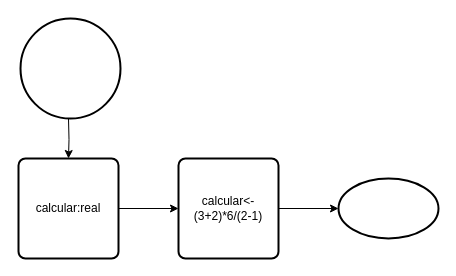
Image size: 456x276. Some labels were removed from this diagram. The box of each missing label's shape, as (x1, y1, x2, y2) in pixels:
FimAlgoritmo: (337, 177, 439, 239)
Início: (19, 17, 121, 119)
